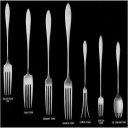Fork: (39, 8, 58, 118), (60, 2, 75, 127), (20, 6, 36, 113), (2, 2, 17, 101), (95, 31, 108, 122), (113, 38, 124, 120), (80, 33, 90, 120)
